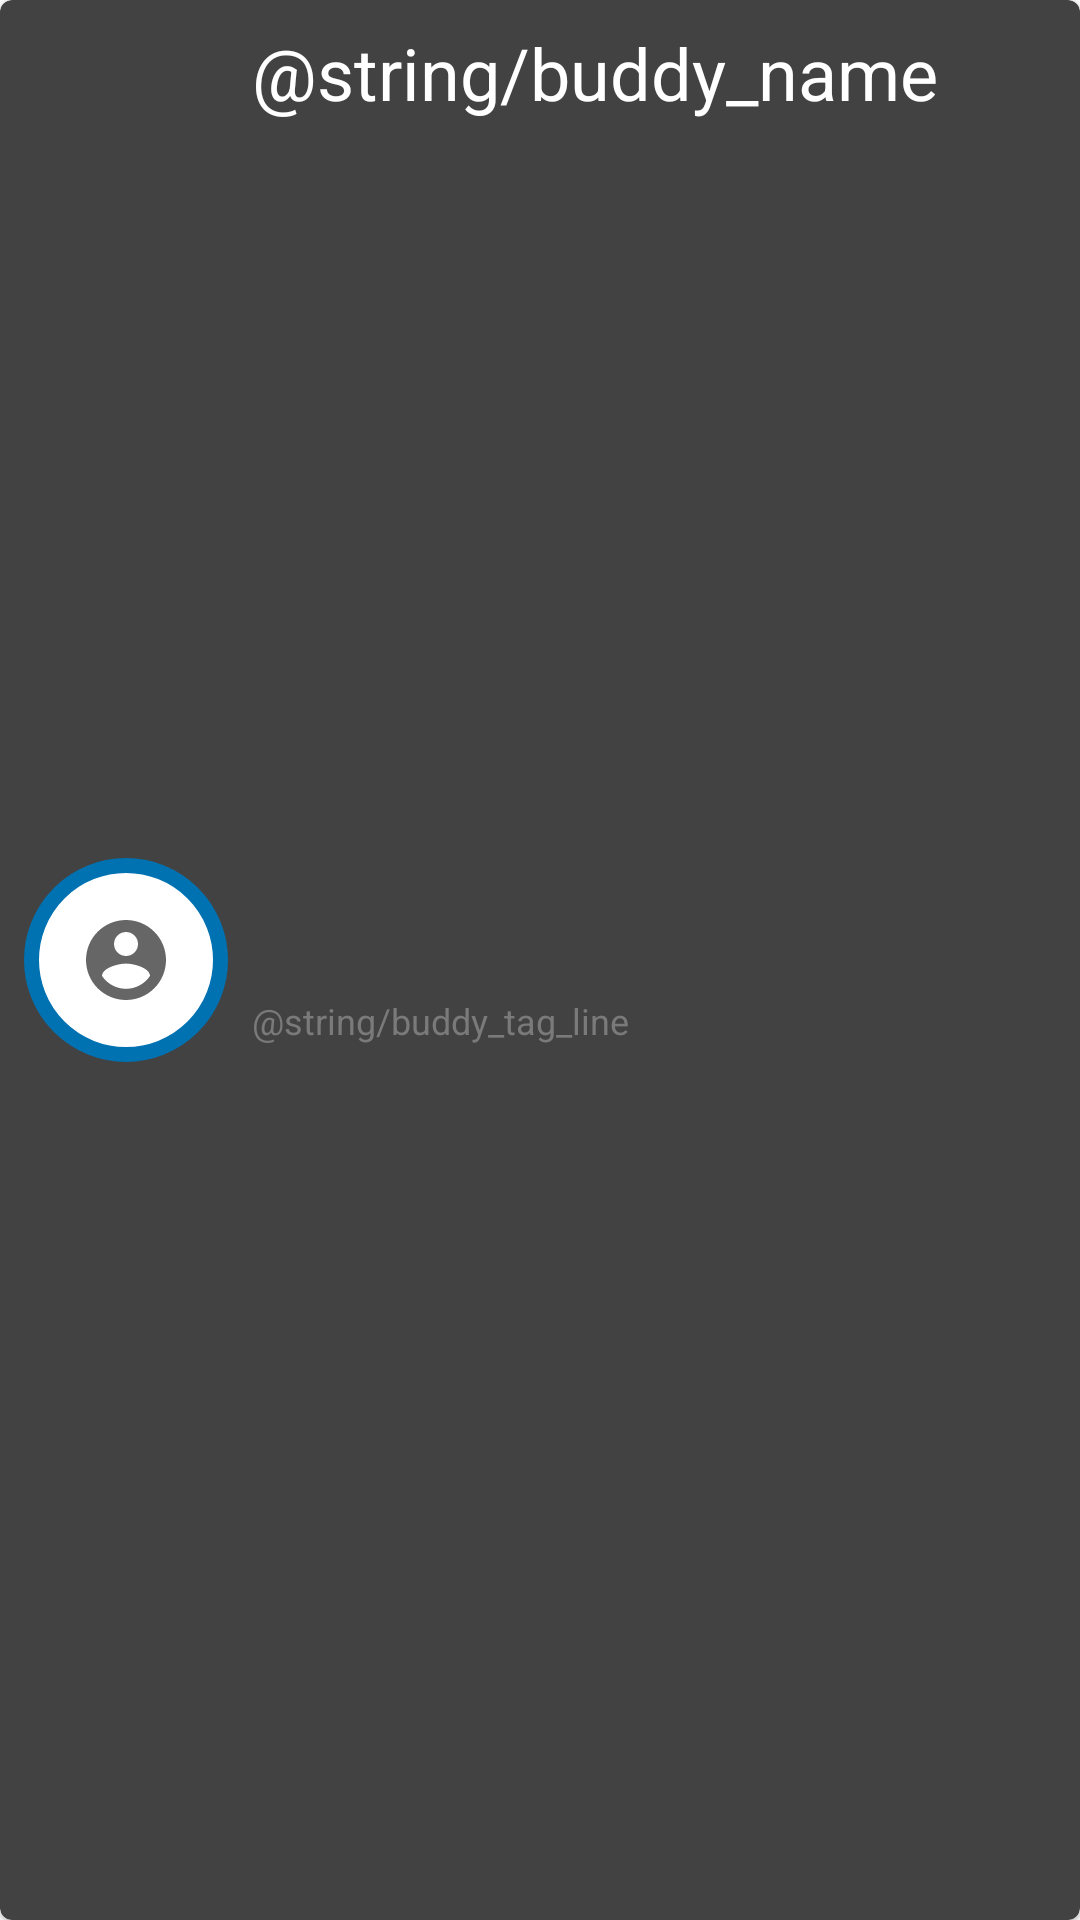

Icons on this 1080 x 1920 Android screen, each with the point to tap as point (x, y):
buddy profile: point (126, 960)
